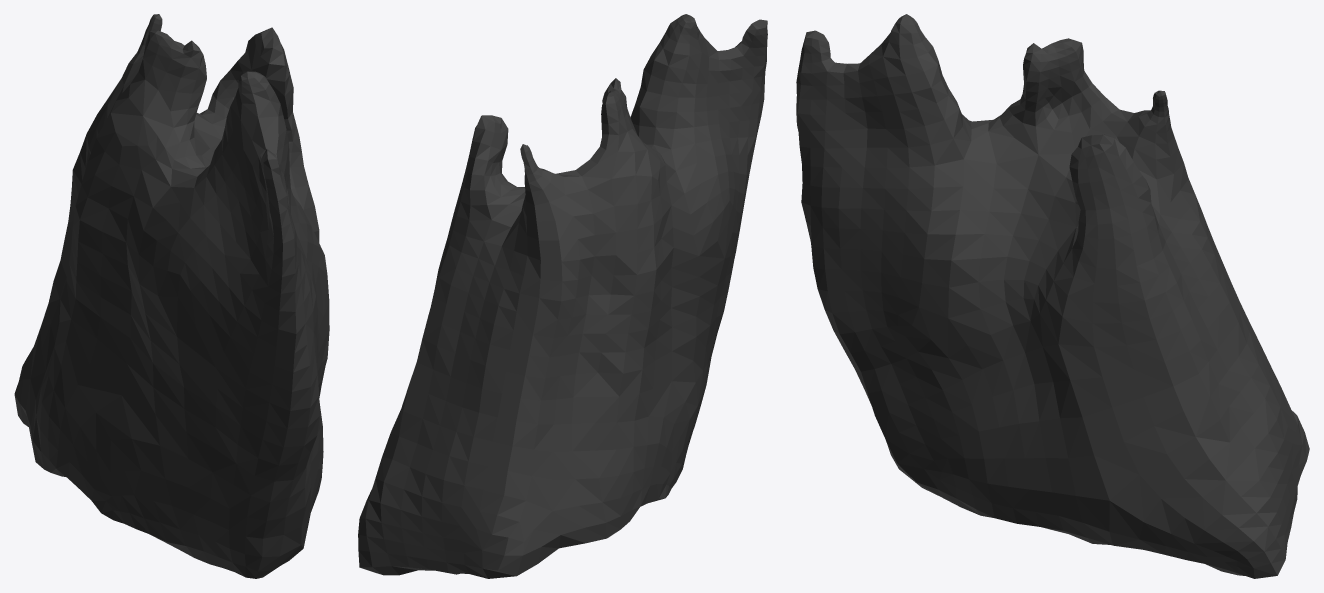
The model's file is R_max_PM2_copy000.glb.
3 views of the same model, side by side, from view 1: azimuth 30°, elevation 25°; view 2: azimuth 150°, elevation 25°; view 3: azimuth 270°, elevation 25° (orthographic). The views are drawn at different scales.
Visible parts, largest first — view 1: R_max_PM2_copy000; view 2: R_max_PM2_copy000; view 3: R_max_PM2_copy000.
Part boxes in pixels (x1,y1,x2,y2): R_max_PM2_copy000: (14,14,329,578); R_max_PM2_copy000: (358,14,767,578); R_max_PM2_copy000: (796,14,1309,578).
Bounding box in the file's own units: 0.4238 × 0.8455 × 0.805.
Materials: 1 (1 with a texture image).
